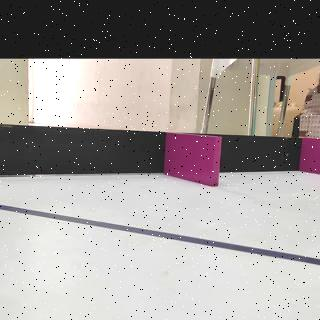xparking: (167, 134, 219, 184), (303, 138, 320, 170)
